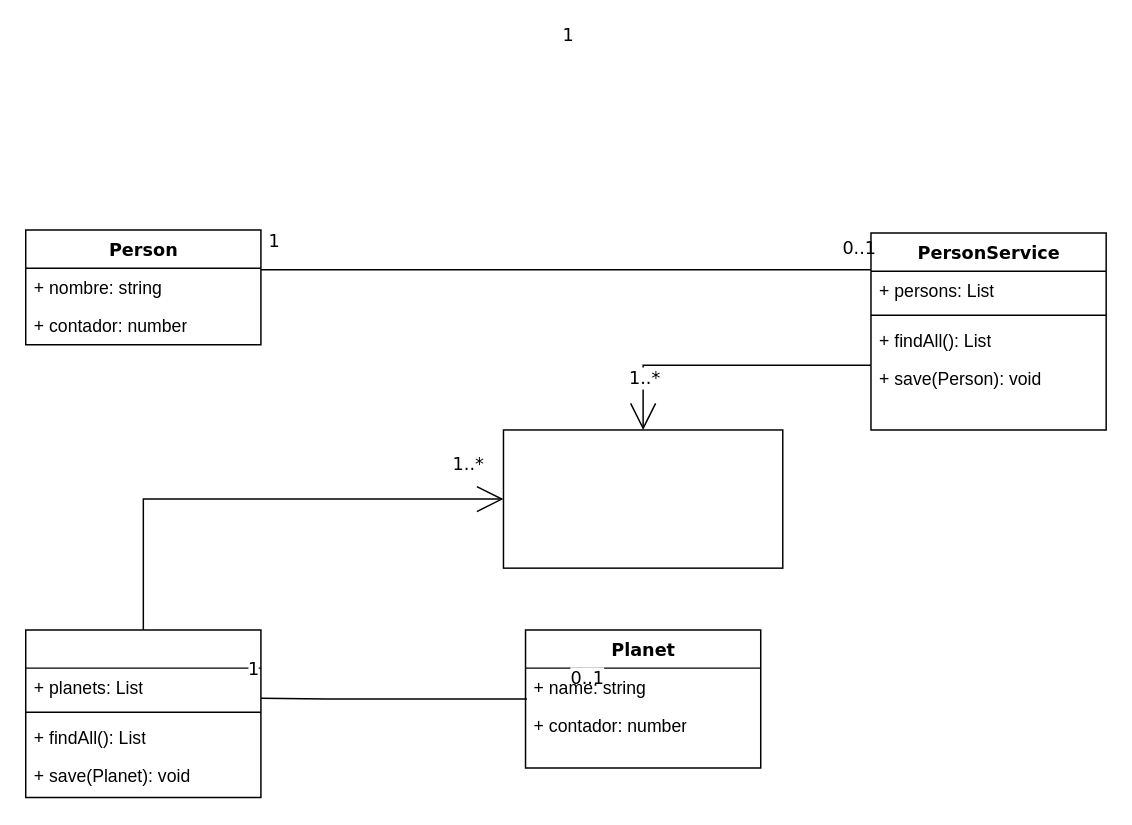
Image size: 1132x825. Some labels were removed from this diagram. The box of each missing label's shape, as (x1, y1, x2, y2) in pixels:
<<Interface>> Ng-Trycore-app + person: Component + planet: Component: (502, 429, 783, 568)
PlanetService: (24, 628, 261, 797)
